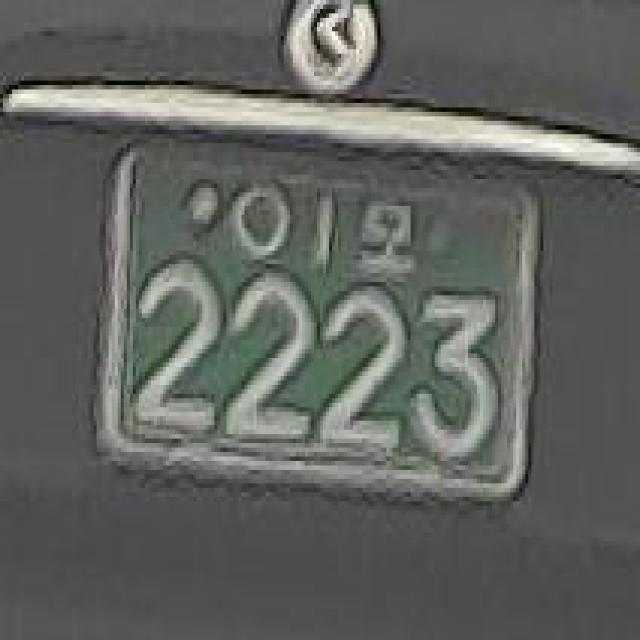illegal_plate: (93, 112, 554, 525)
